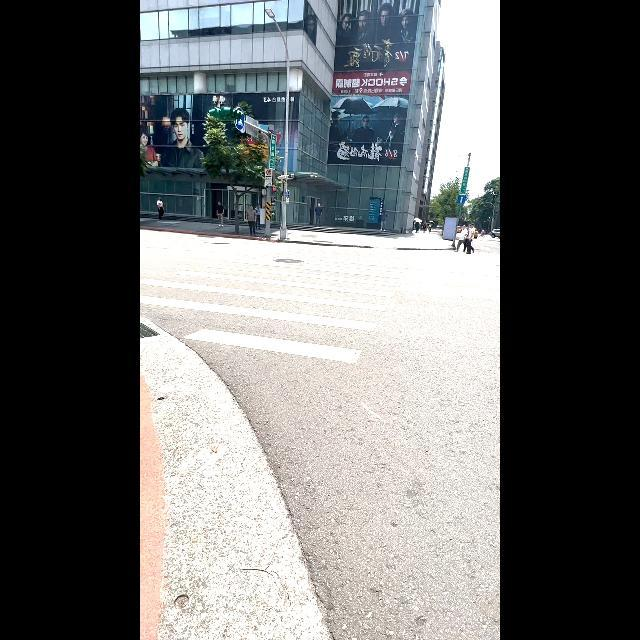sidewalk: (140, 237, 391, 522)
